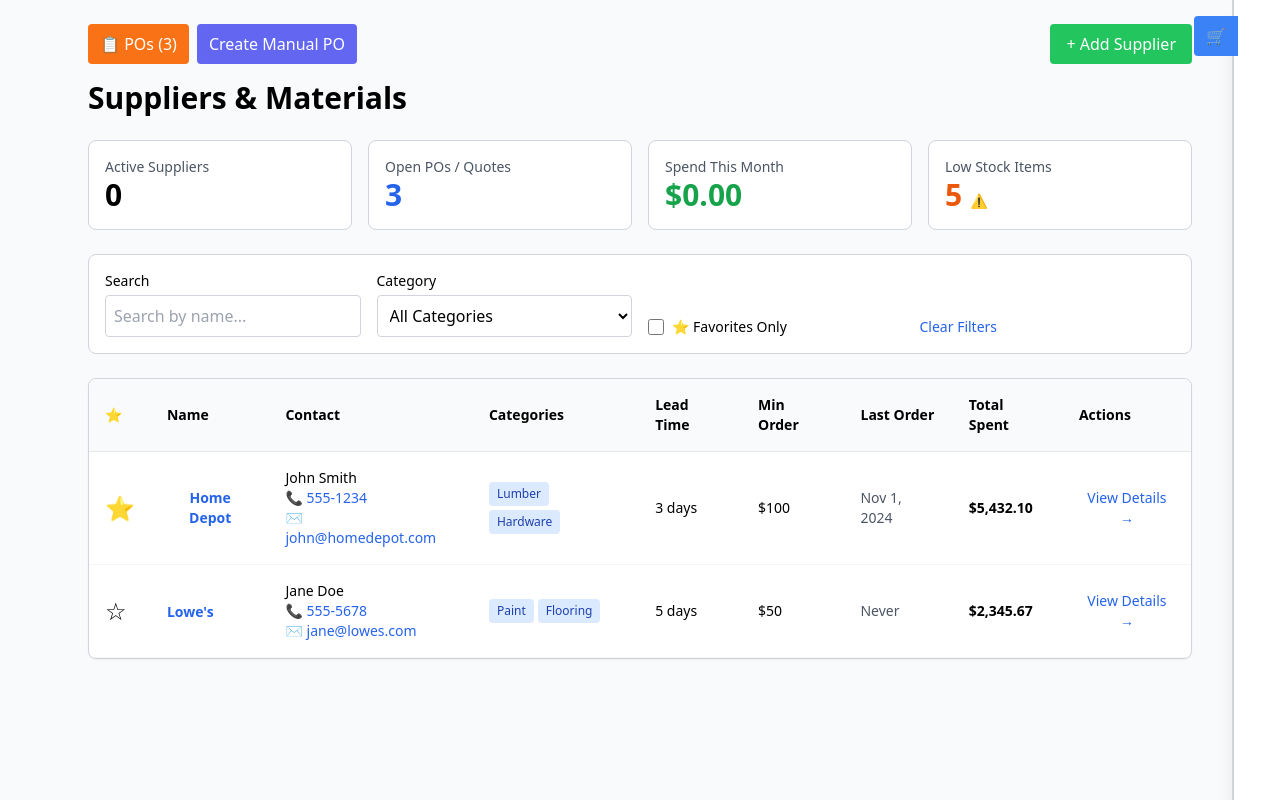
Test: Suppliers Component - Phase 1 & Catalog Management (Phase 2D) › should filter by category
Select "Lumber" in the dropdown labelled "Category" at (504, 316), box [376,295,632,337]
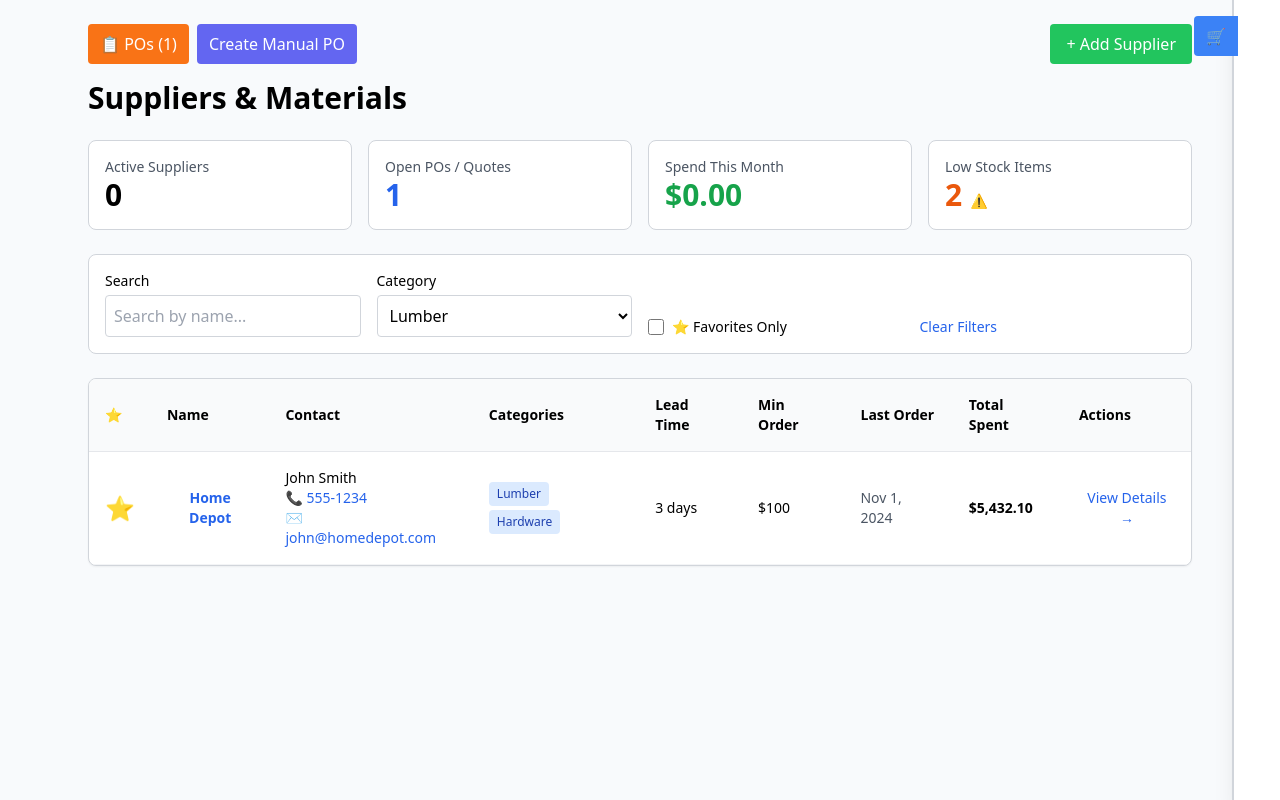
Expected: the button "Lowe's" is gone
